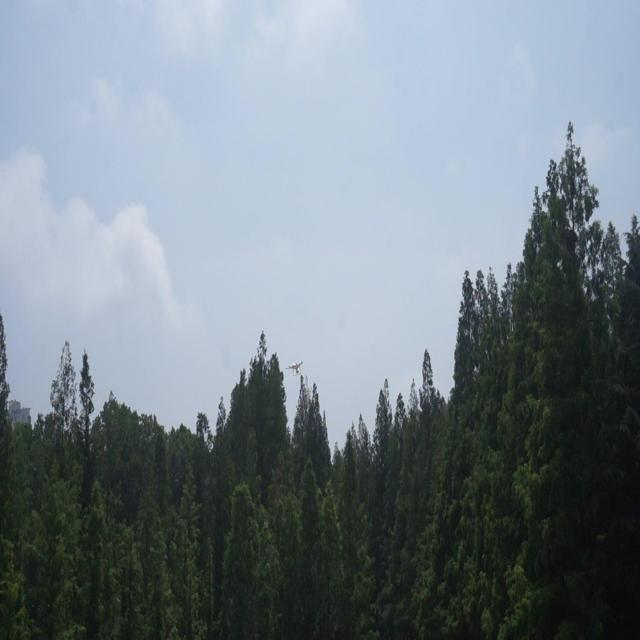drone: (285, 357, 306, 377)
